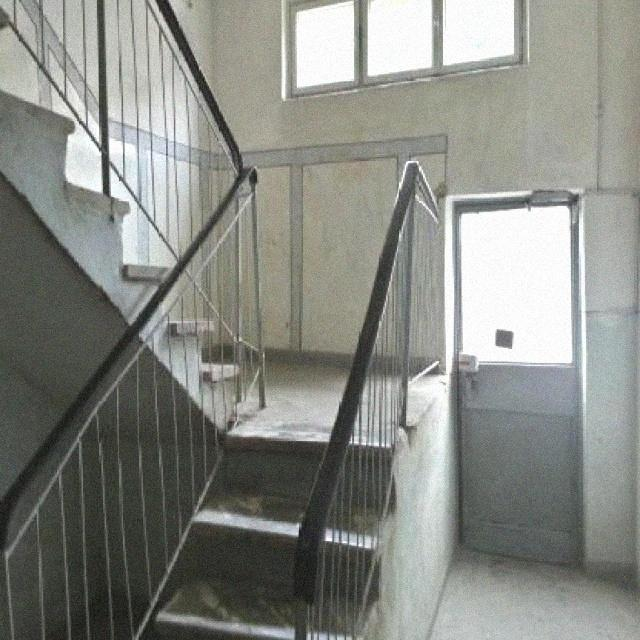stair: (1, 0, 267, 383), (158, 392, 454, 640)
